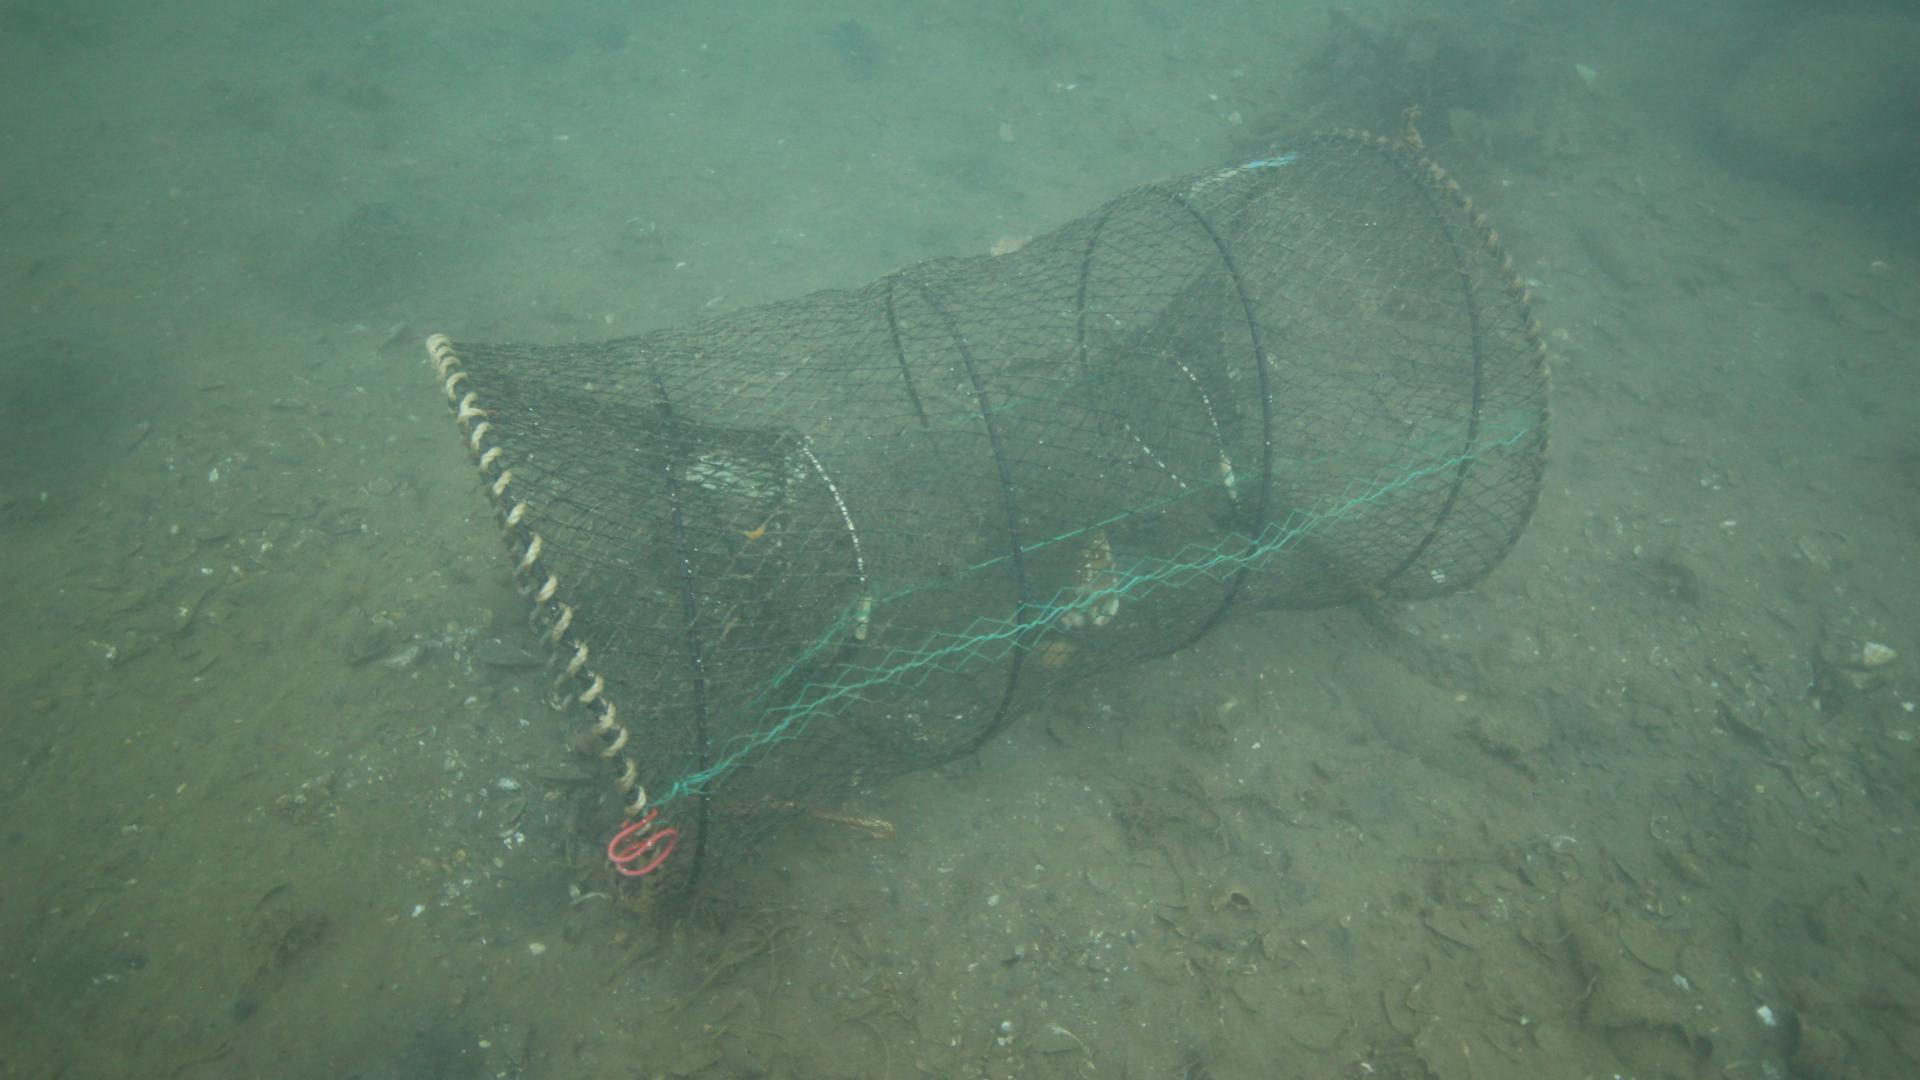spring fish trap: (422, 127, 1553, 891)
